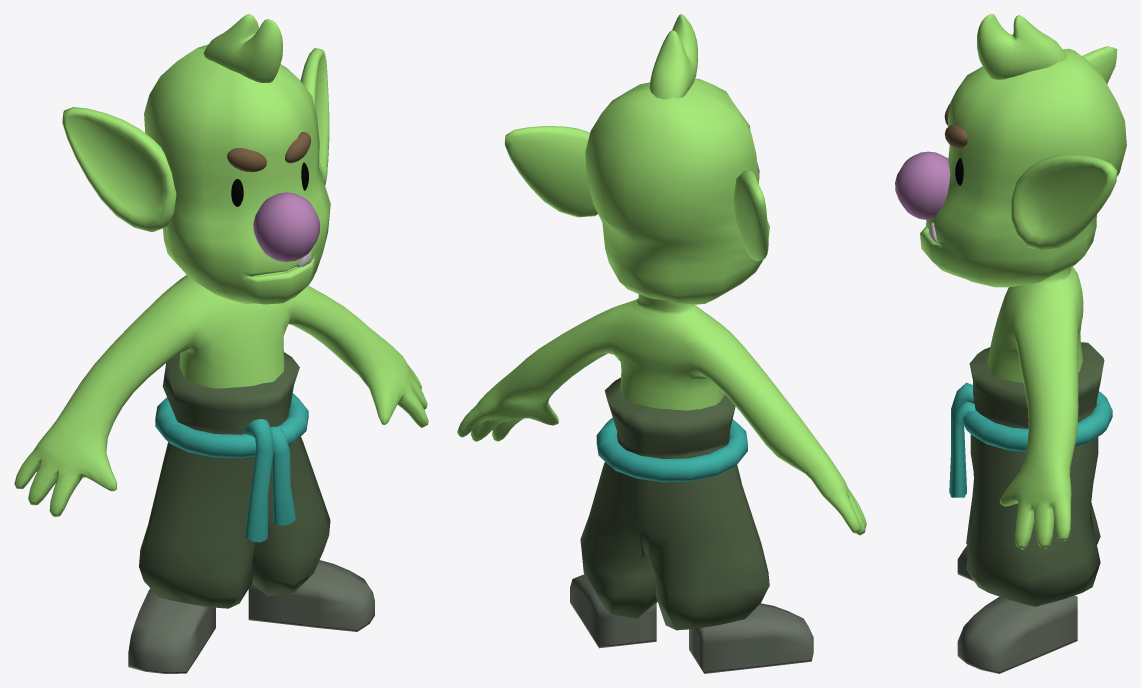
File: goblin02_v001.fbx
3 views of the same model, side by side, from view 1: azimuth 30°, elevation 25°; view 2: azimuth 150°, elevation 25°; view 3: azimuth 270°, elevation 25° (orthographic).
Parts seen in each view (by area): view 1: goblin02_mdl; view 2: goblin02_mdl; view 3: goblin02_mdl.
Boxes of the visible parts, <box> form: goblin02_mdl: <box>14,14,428,673</box>; goblin02_mdl: <box>457,14,866,673</box>; goblin02_mdl: <box>895,14,1126,673</box>.
Size of the model in its own units: 68.83 by 100 by 34.7.
